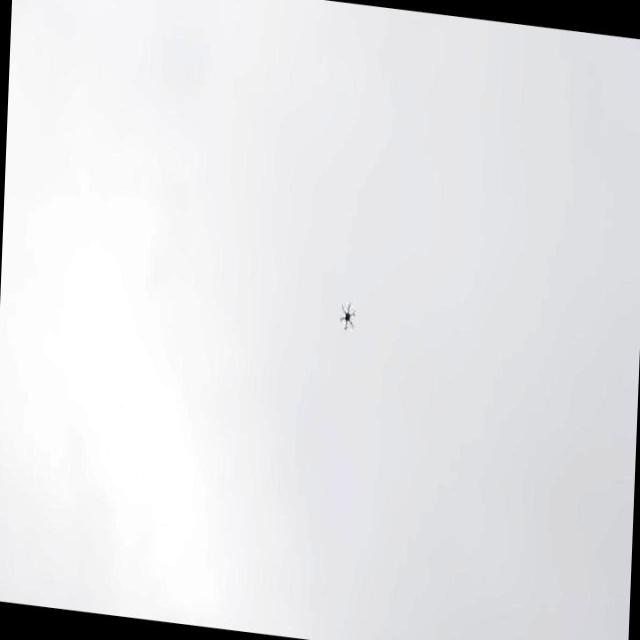drone: (335, 298, 360, 335)
